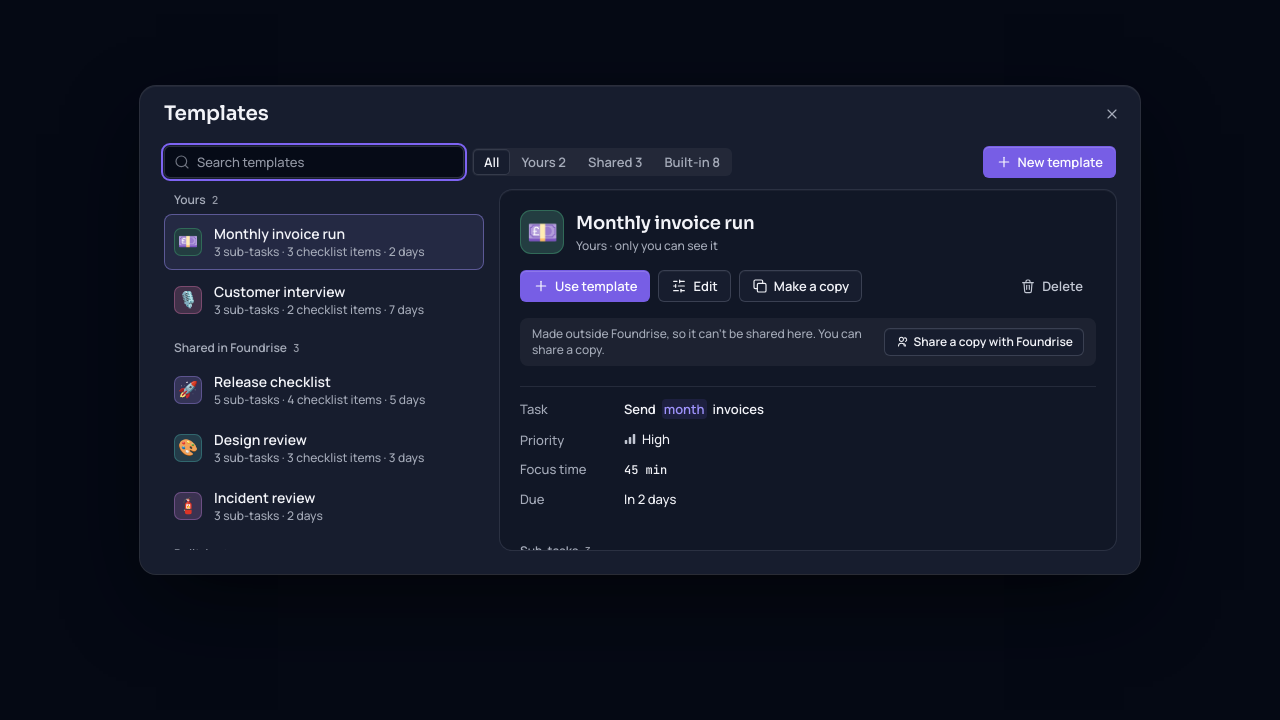
TemplateLibrary › lists yours, the workspace's shared ones and the built-ins, and previews the first
Check: the heading "Monthly invoice run" is shown, box [576,210,754,236]
Check: the text "Yours · only you can see it" is shown, box [576,237,718,254]
Click the option "🚀 Release checklist 5 sub-tasks · 4 checklist items · 5 days". click: (300, 390)
box: [174,372,425,408]
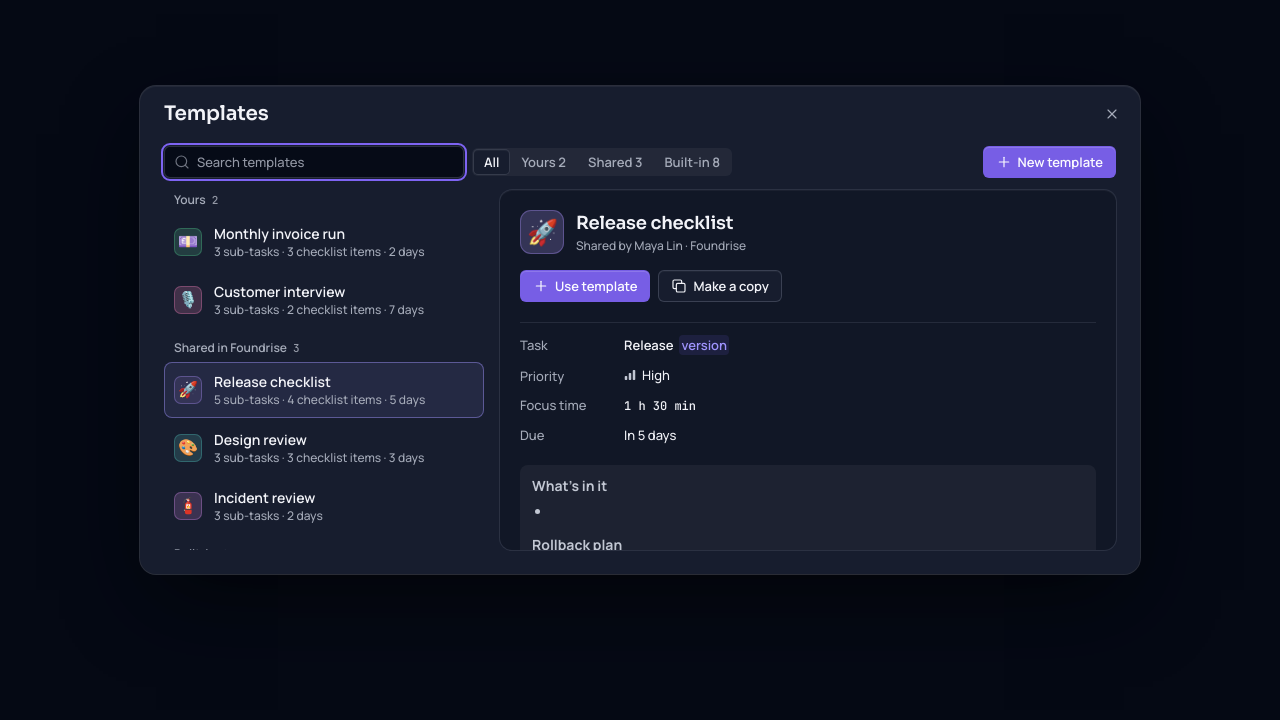
Check: the text "Shared by Maya Lin · Foundrise" is shown, box [576,238,746,254]
